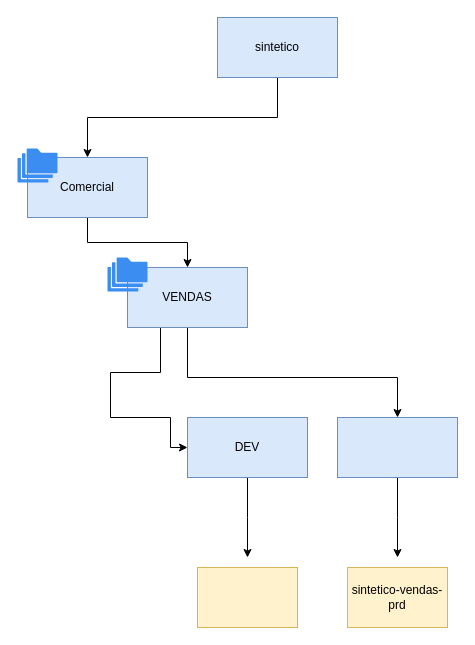
Image size: 475x645. Some labels were removed from this diagram. Each missing label, with the centre of its shape:
PRD: (x=397, y=447)
sintetico-vendas-dev: (x=247, y=597)
